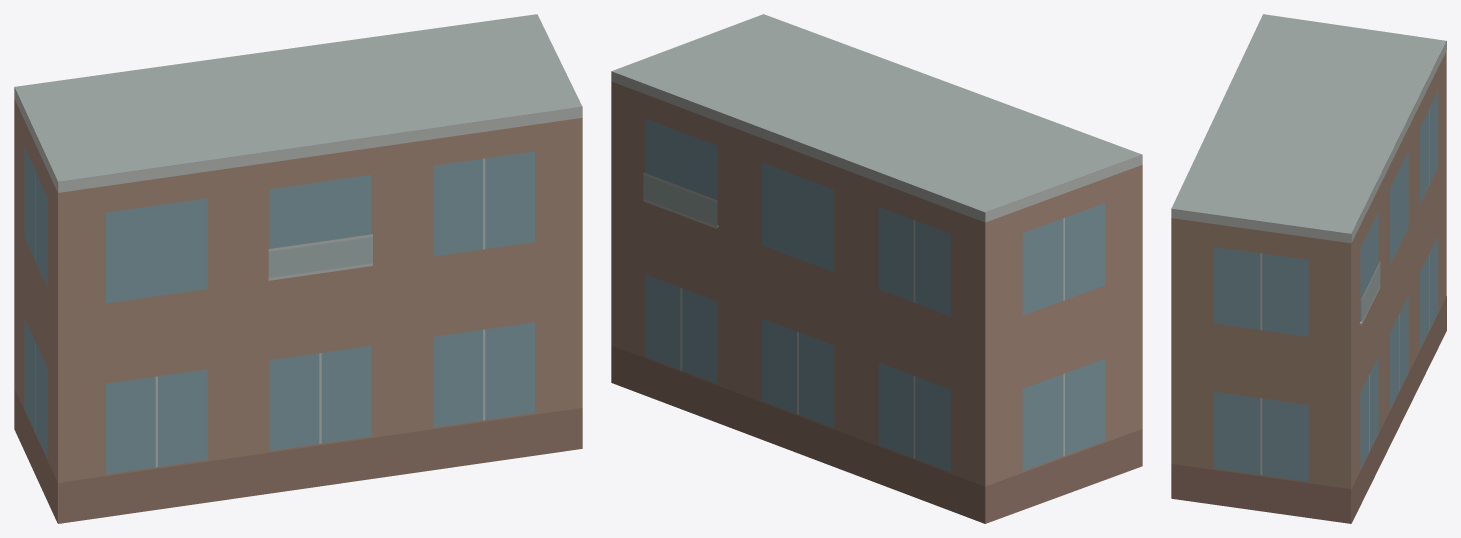
The model's file is survey-upis-32496141.glb.
3 renders of one model, left to right at view 1: azimuth 30°, elevation 25°; view 2: azimuth 150°, elevation 25°; view 3: azimuth 270°, elevation 25°, orthographic. The views are drawn at different scales.
Visible parts, largest first — view 1: survey-upis-32496141.tmp; view 2: survey-upis-32496141.tmp; view 3: survey-upis-32496141.tmp.
Part boxes in pixels (left/top/right/bottom): survey-upis-32496141.tmp: left=14, top=14, right=582, bottom=523; survey-upis-32496141.tmp: left=611, top=14, right=1142, bottom=523; survey-upis-32496141.tmp: left=1171, top=14, right=1446, bottom=523.
Bounding box in the file's own units: 12.21 × 7.5 × 6.47.
